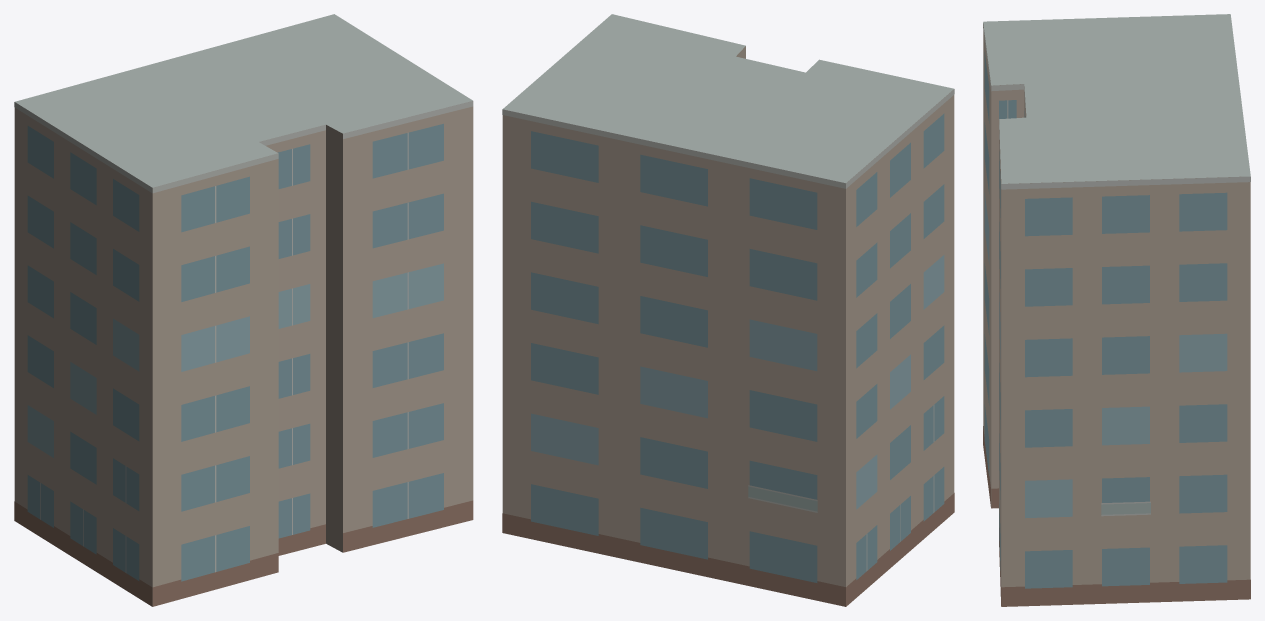
The model's file is survey-upis-32743161.glb.
3 renders of one model, left to right at view 1: azimuth 30°, elevation 25°; view 2: azimuth 150°, elevation 25°; view 3: azimuth 270°, elevation 25°, orthographic.
Visible parts, largest first — view 1: survey-upis-32743161.tmp; view 2: survey-upis-32743161.tmp; view 3: survey-upis-32743161.tmp.
Boxes of the visible parts, x1=… form: survey-upis-32743161.tmp: x1=14, y1=14, x2=473, y2=606; survey-upis-32743161.tmp: x1=502, y1=14, x2=954, y2=606; survey-upis-32743161.tmp: x1=983, y1=14, x2=1250, y2=606.
Bounding box in the file's own units: 15.79 × 18.3 × 10.51.
